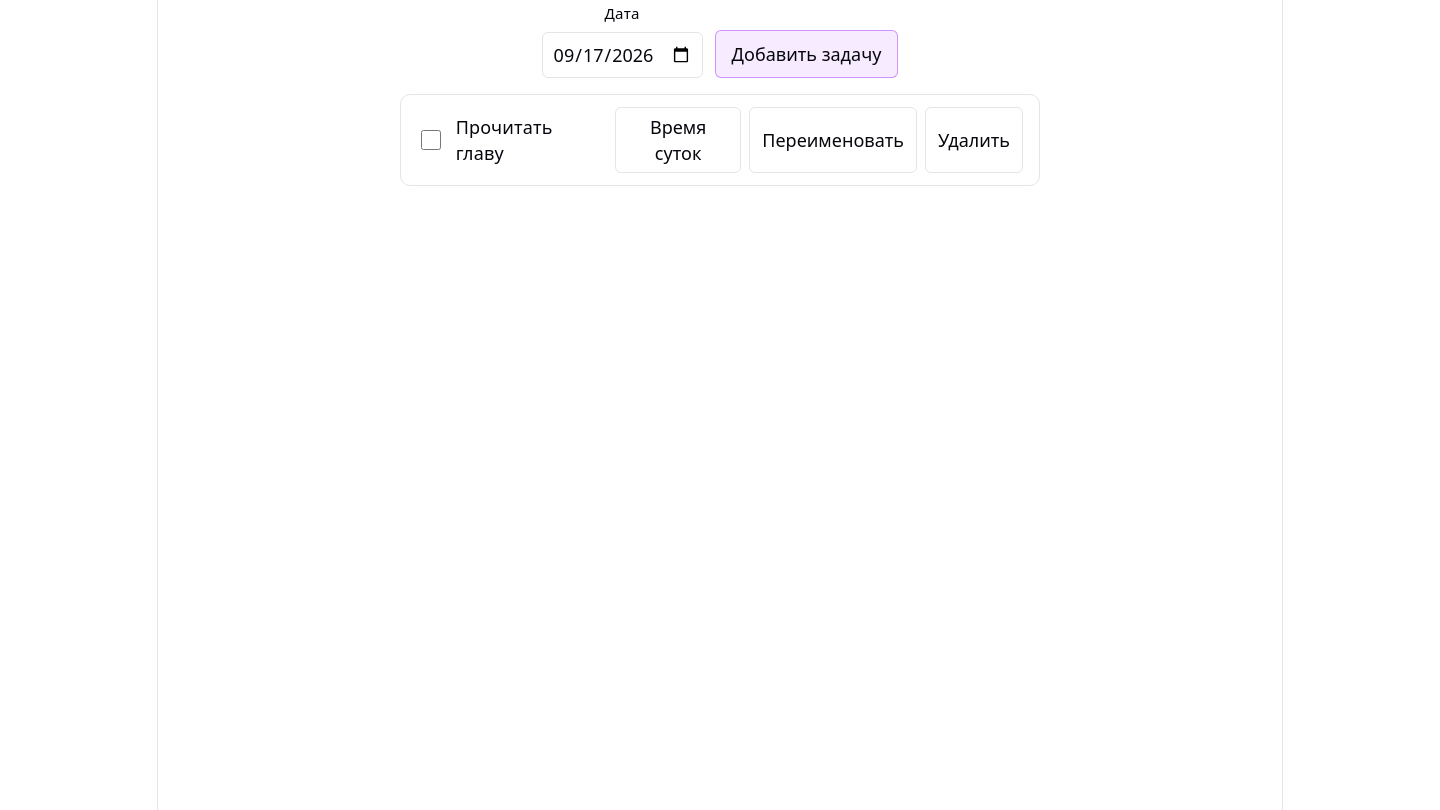
TasksTab › сохраняет задачу при ошибке удаления
This screenshot has width=1440, height=810.
expect the text "Прочитать главу" is shown: met, box [456,115,553,165]
Step 1. Click the button with aria-label "Удалить Прочитать главу" → (974, 140), box [925,107,1023,173]
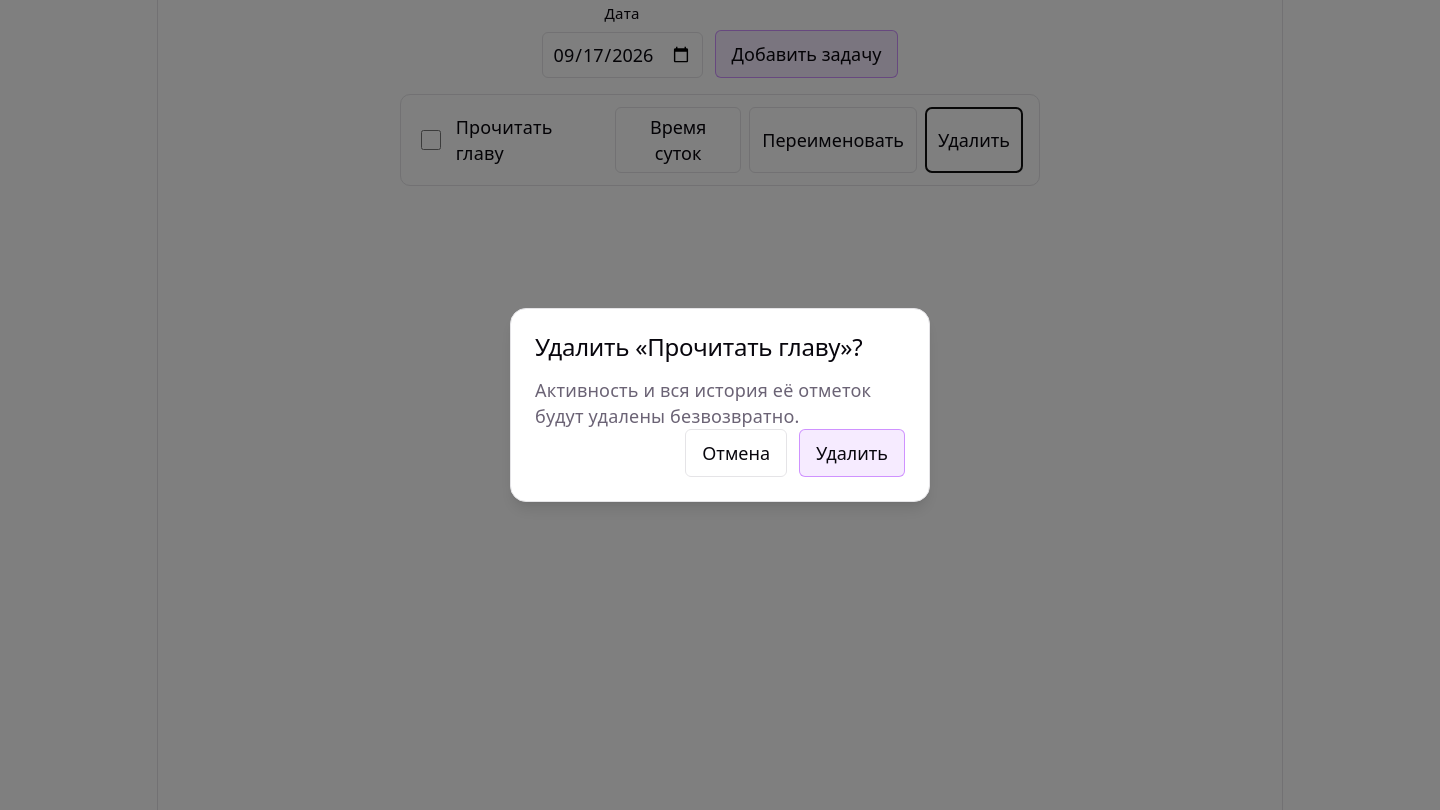
Step 2. Click the button "Удалить" → (852, 453), box [799,429,905,477]
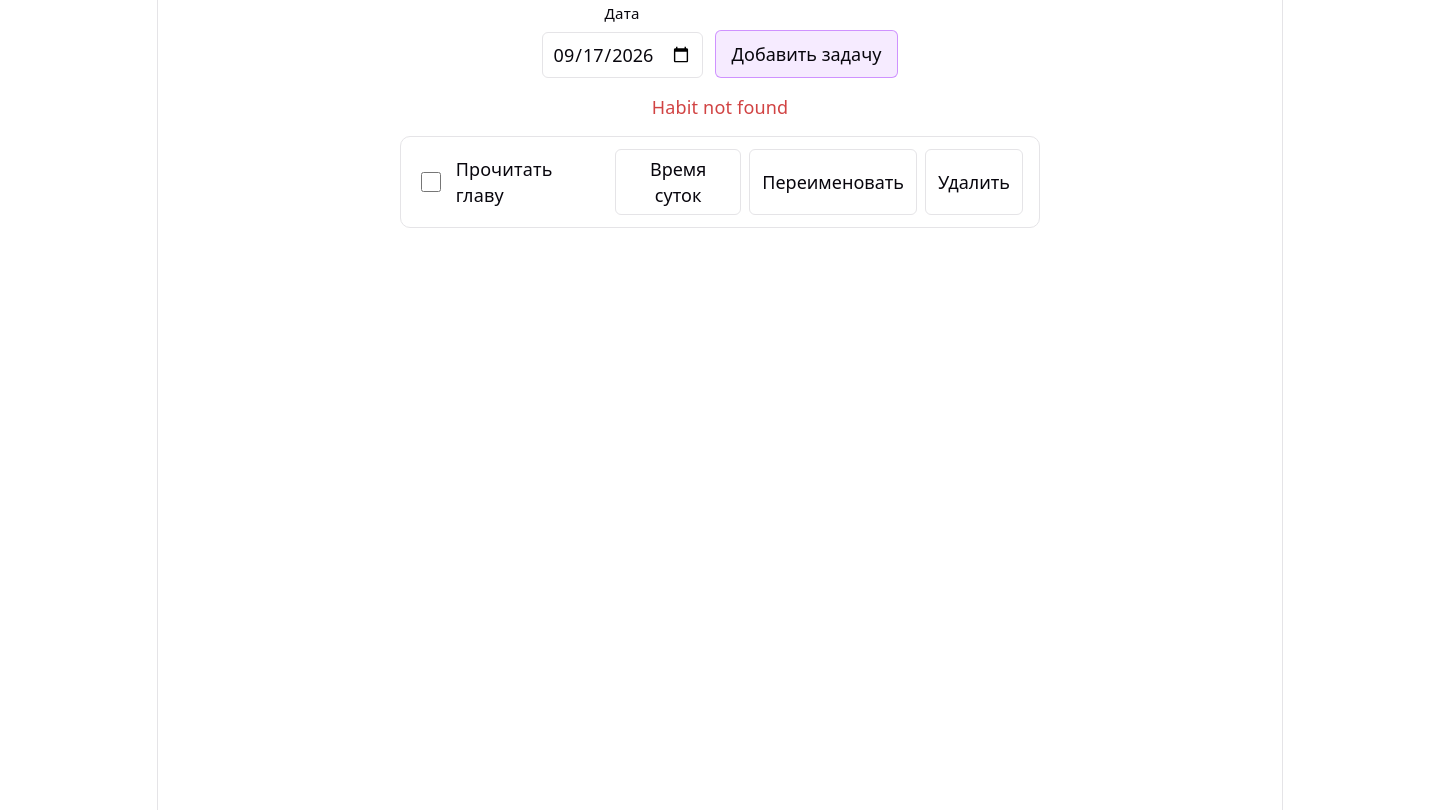
expect the text "Прочитать главу" is shown: met, box [456,157,553,207]
expect the message reads "Habit not found": met, box [652,95,788,119]
